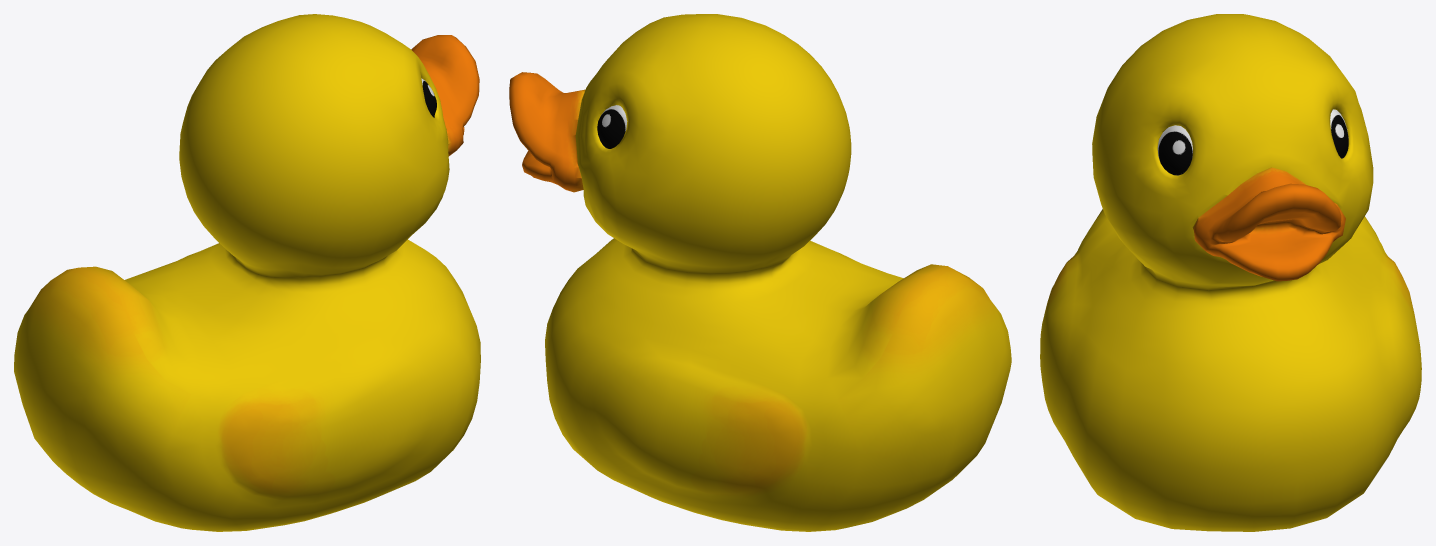
File: Duck.gltf
3 renders of one model, left to right at view 1: azimuth 30°, elevation 25°; view 2: azimuth 150°, elevation 25°; view 3: azimuth 270°, elevation 25°, orthographic. The views are drawn at different scales.
Size of the model in its own units: 1.65 by 1.54 by 1.15.
Materials: 1 (1 with a texture image).
